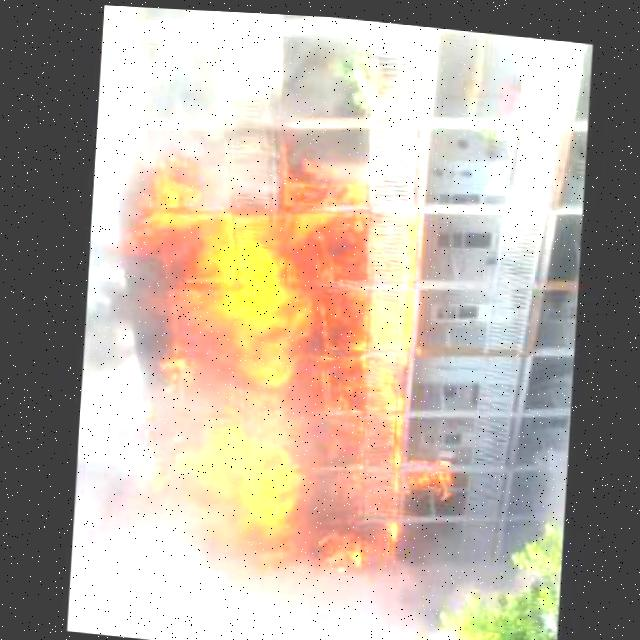Fire: (151, 180, 320, 562), (94, 12, 361, 188), (323, 177, 425, 580), (242, 530, 524, 640), (277, 318, 348, 567), (119, 145, 197, 254), (521, 420, 568, 543), (394, 450, 465, 514)
Smoke: (72, 241, 163, 517)
